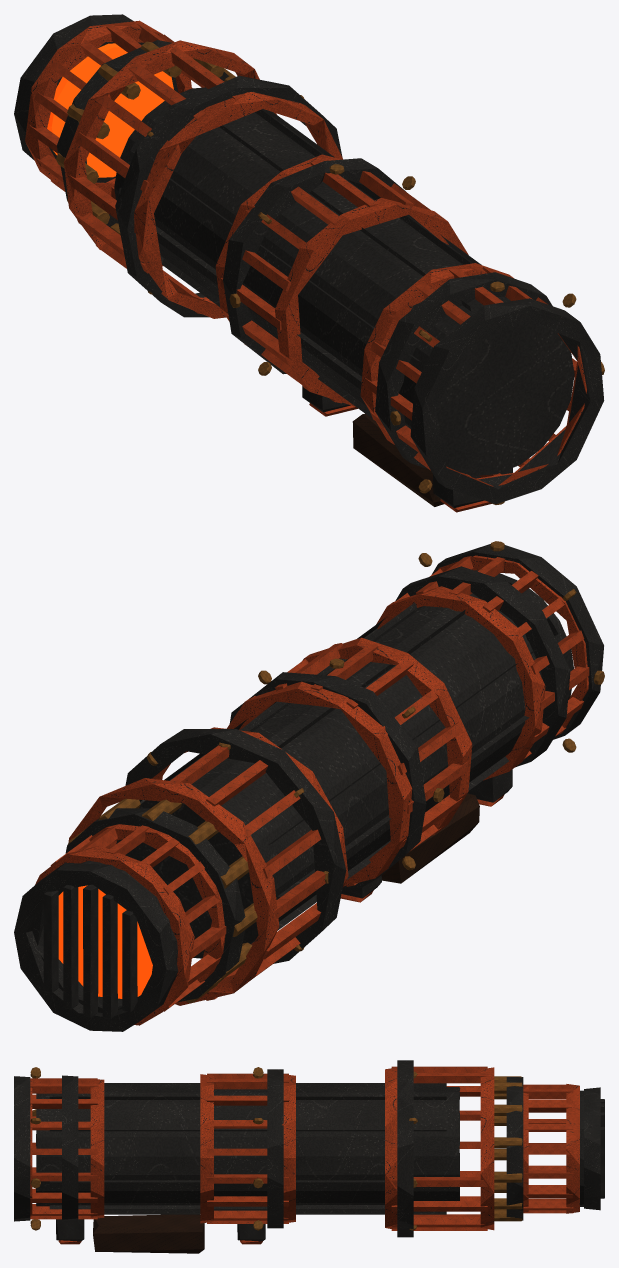
Rendered from kiln-focus-damaged-lod1.glb.
3 views of the same model, one above another, from view 1: azimuth 30°, elevation 25°; view 2: azimuth 150°, elevation 25°; view 3: azimuth 270°, elevation 25° (orthographic). The views are drawn at different scales.
Parts seen in each view (by area): view 1: Forged barrel core, Machined barrel rim, Ceramic vent header, Machined barrel rim.003, Ceramic vent header.003, Machined barrel rim.001, Machined barrel rim.002, Ceramic vent footer, Ceramic vent footer.001, Banked ember recessed chamber, Ceramic vent footer.002, Insulated palm grip (+22 smaller); view 2: Forged barrel core, Muzzle lip, Machined barrel rim.003, Ceramic vent footer, Ceramic vent footer.003, Machined barrel rim.001, Ceramic vent footer.002, Machined barrel rim.004, Machined barrel rim.002, Ceramic vent header.003, Machined barrel rim, Ceramic vent footer.001 (+28 smaller); view 3: Forged barrel core, Insulated palm grip, Machined barrel rim.003, Machined barrel rim.002, Machined barrel rim.001, Machined barrel rim, Ceramic vent footer, Machined barrel rim.004, Muzzle lip, Ceramic vent header, Ceramic vent footer.002, Ceramic vent header.003 (+44 smaller).
Part boxes in pixels (left/top/right/bottom): Forged barrel core: left=114, top=87, right=574, bottom=475; Machined barrel rim: left=410, top=298, right=604, bottom=504; Ceramic vent header: left=134, top=92, right=343, bottom=318; Machined barrel rim.003: left=115, top=75, right=342, bottom=317; Ceramic vent header.003: left=275, top=198, right=468, bottom=406; Machined barrel rim.001: left=375, top=272, right=552, bottom=468; Machined barrel rim.002: left=223, top=158, right=405, bottom=374; Ceramic vent footer: left=63, top=40, right=276, bottom=266; Ceramic vent footer.001: left=25, top=20, right=191, bottom=195; Banked ember recessed chamber: left=47, top=43, right=173, bottom=177; Ceramic vent footer.002: left=360, top=263, right=513, bottom=444; Insulated palm grip: left=352, top=413, right=443, bottom=506; Forged barrel core: left=116, top=570, right=573, bottom=958; Muzzle lip: left=14, top=862, right=178, bottom=1031; Machined barrel rim.003: left=125, top=729, right=346, bottom=963; Ceramic vent footer: left=68, top=778, right=279, bottom=1005; Ceramic vent footer.003: left=226, top=681, right=412, bottom=886; Machined barrel rim.001: left=395, top=566, right=570, bottom=767; Ceramic vent footer.002: left=376, top=586, right=545, bottom=780; Machined barrel rim.004: left=65, top=808, right=245, bottom=1002; Machined barrel rim.002: left=229, top=672, right=426, bottom=887; Ceramic vent header.003: left=302, top=637, right=472, bottom=835; Machined barrel rim: left=431, top=544, right=603, bottom=739; Ceramic vent footer.001: left=35, top=846, right=194, bottom=1025; Forged barrel core: left=36, top=1087, right=460, bottom=1210; Insulated palm grip: left=93, top=1214, right=204, bottom=1253; Machined barrel rim.003: left=397, top=1060, right=413, bottom=1237; Machined barrel rim.002: left=267, top=1069, right=283, bottom=1228; Machined barrel rim.001: left=62, top=1075, right=78, bottom=1221; Machined barrel rim: left=14, top=1076, right=30, bottom=1221; Ceramic vent footer: left=480, top=1067, right=494, bottom=1230; Machined barrel rim.004: left=506, top=1077, right=523, bottom=1220; Muzzle lip: left=584, top=1087, right=600, bottom=1210; Ceramic vent header: left=385, top=1067, right=397, bottom=1229; Ceramic vent footer.002: left=90, top=1079, right=104, bottom=1218; Ceramic vent header.003: left=200, top=1074, right=213, bottom=1223.
Bounding box in the file's own units: 0.2566 × 0.2878 × 0.8635.
Materials: 5 (4 with a texture image).
